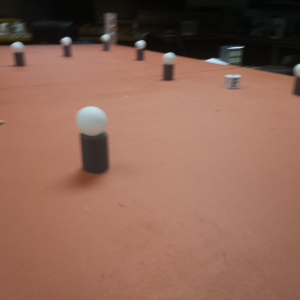corner: (103, 11, 117, 47)
obstacle: (75, 106, 110, 176), (7, 40, 28, 69), (162, 48, 175, 82), (58, 36, 71, 59), (100, 34, 112, 51), (135, 39, 145, 58)
